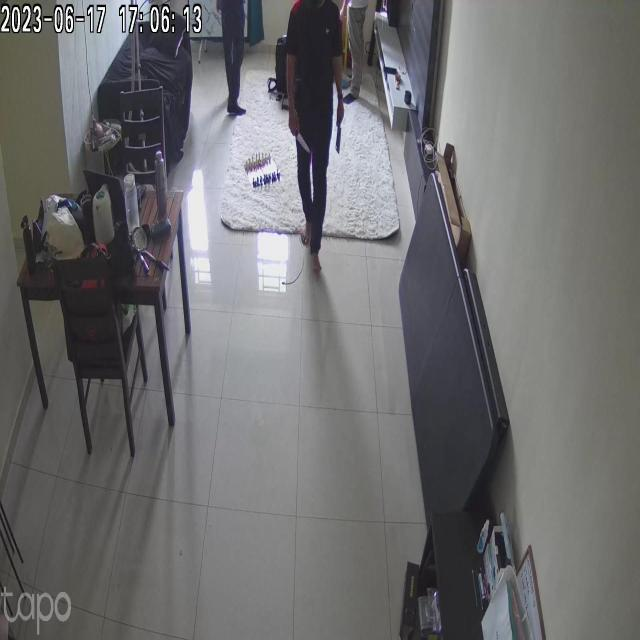Knife: (291, 122, 316, 162), (333, 118, 352, 158)
